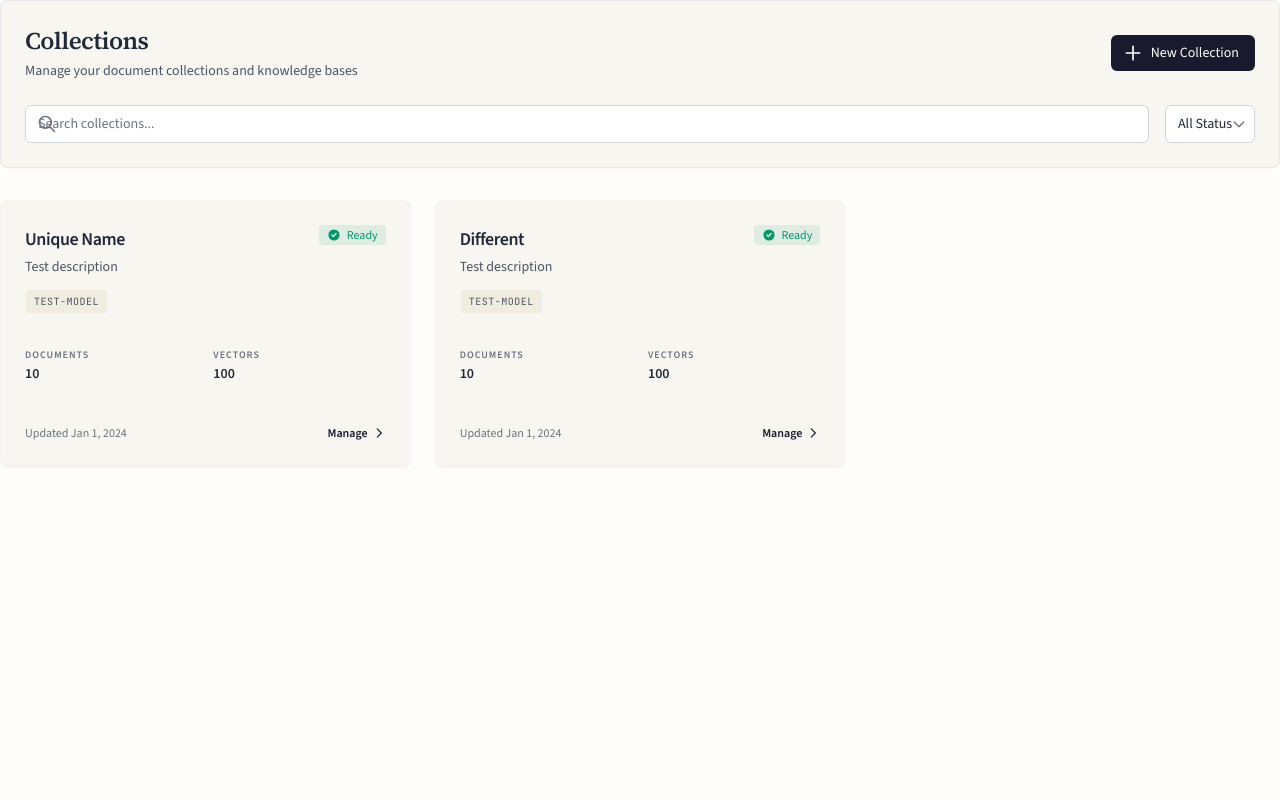
it: CollectionsDashboard › Search Functionality › should show singular result count for one match
Type "Unique" into the field with placeholder "Search collections..." at (587, 124), box [25,105,1149,143]
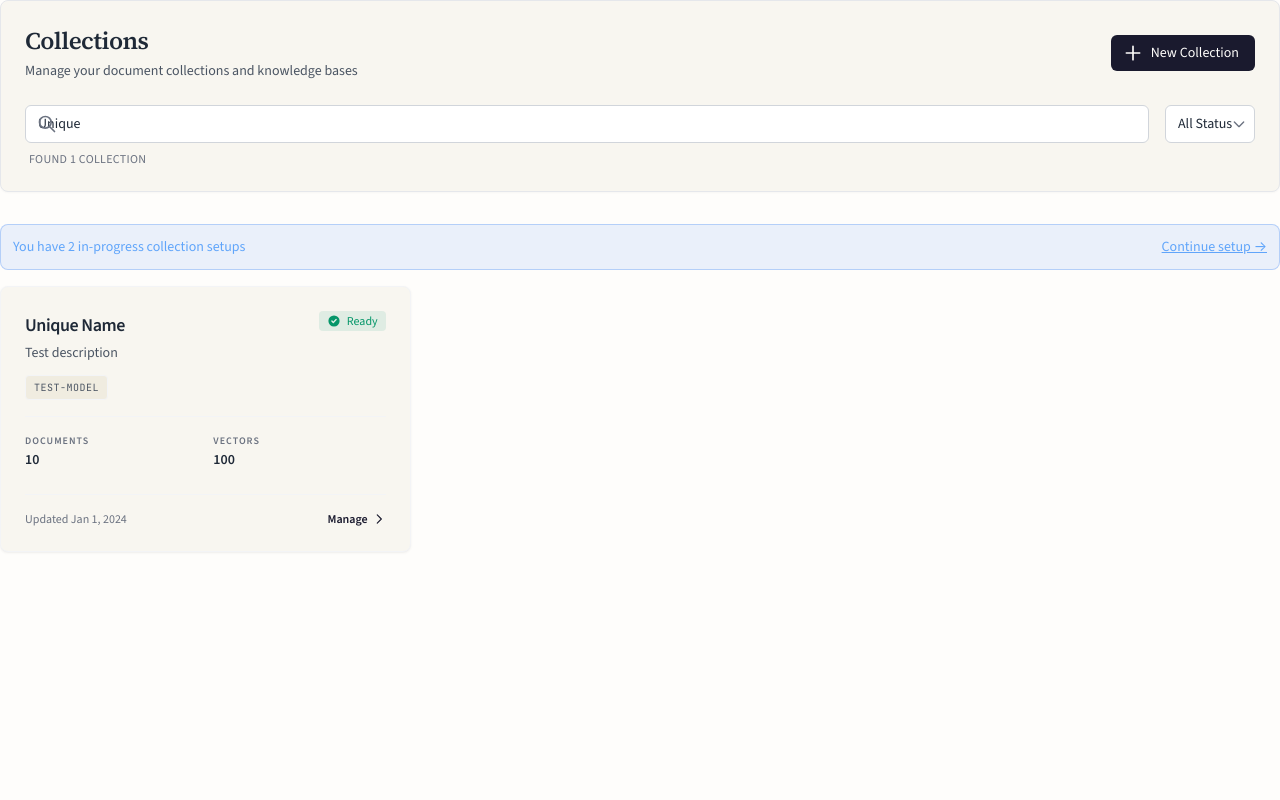
Expected: the text "Found 1 collection" is shown, [29,151,146,167]
